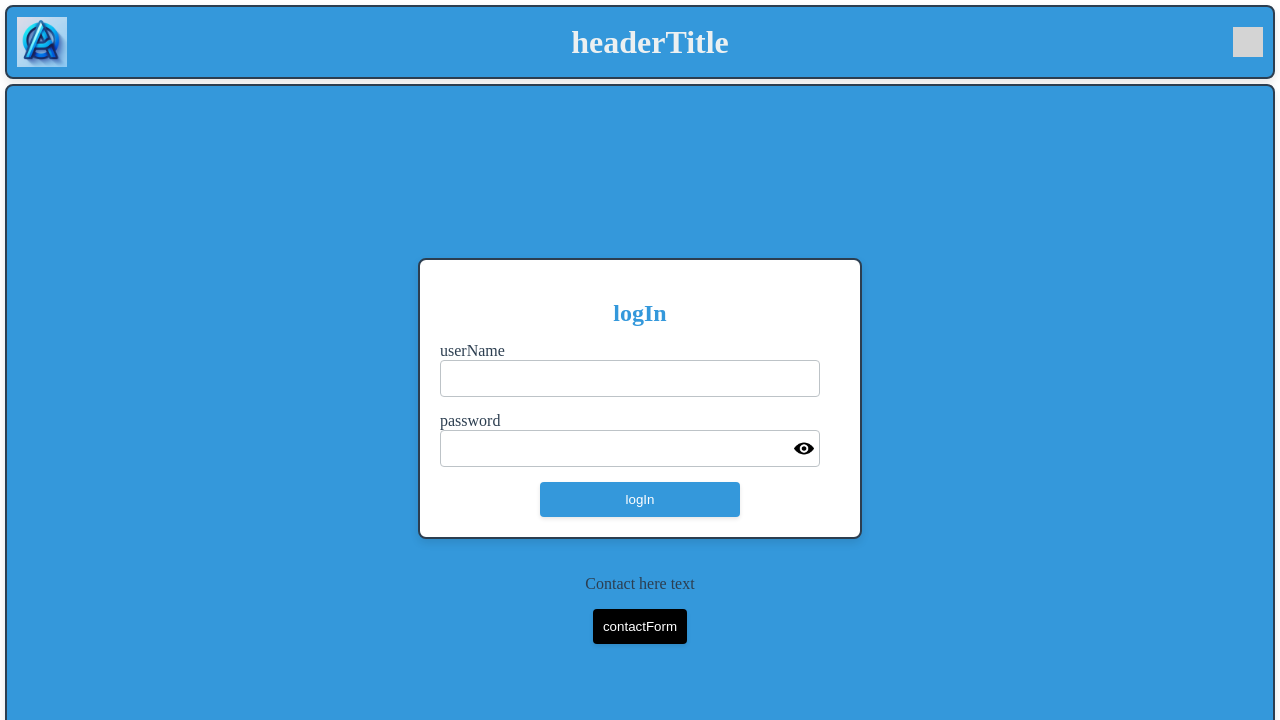
Test case: LoginPage › toggles back to loginBox form when button is clicked
# Switch to ContactForm
Click the button "contactForm": (640, 626) left=593, top=609, right=687, bottom=644
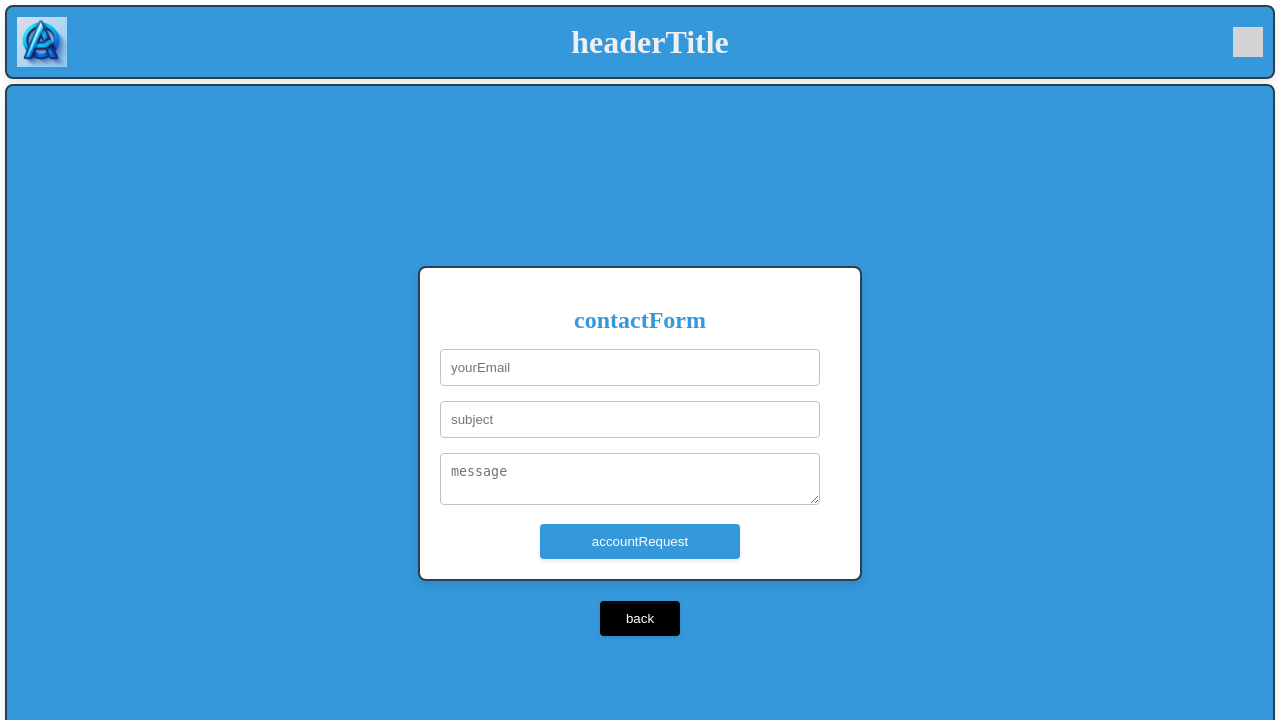
Check: the button "accountRequest" is shown, box left=540, top=524, right=740, bottom=560
# Switch back to login form
Click the button "back": (640, 619) left=600, top=602, right=680, bottom=636
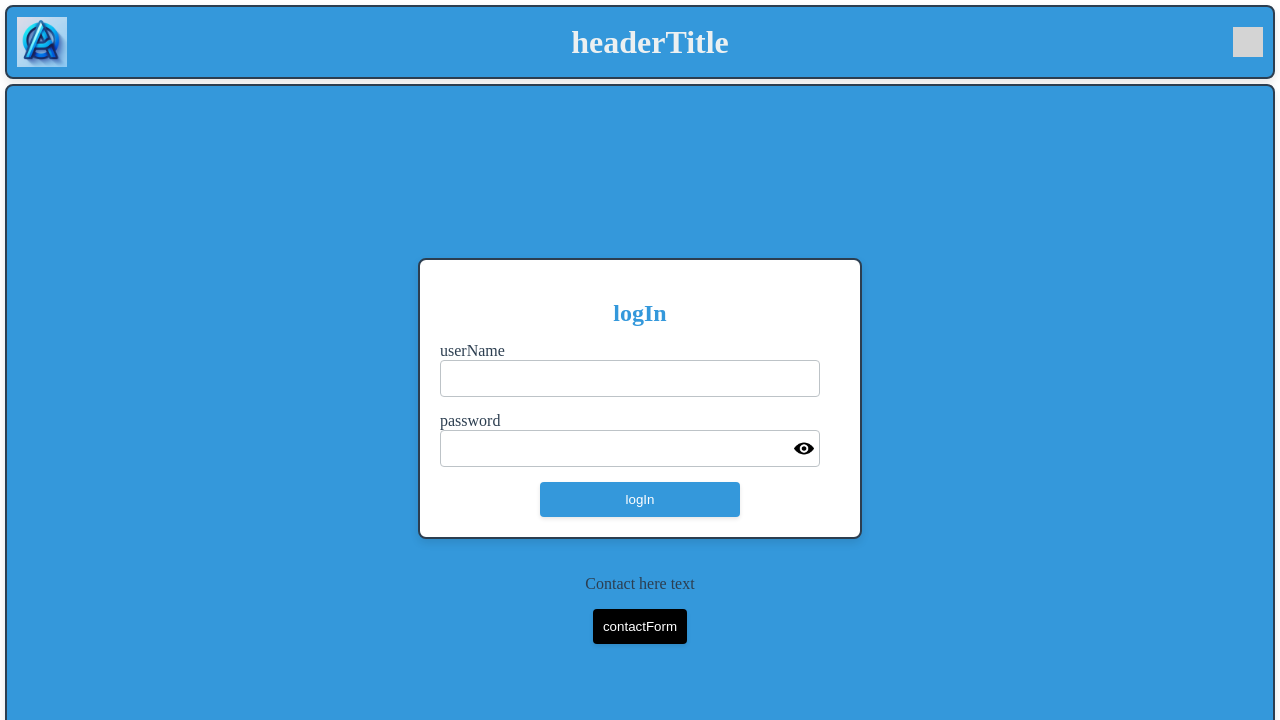
Check: the button "logIn" is shown, box left=540, top=482, right=740, bottom=517
